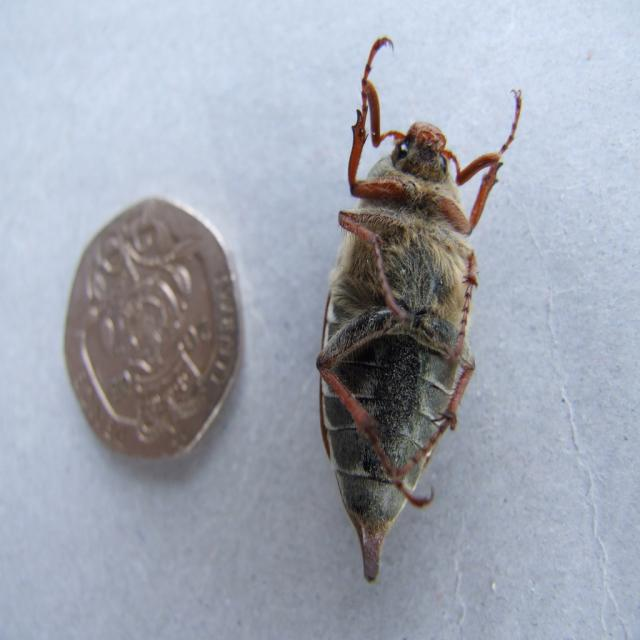Coin: (61, 192, 240, 462)
